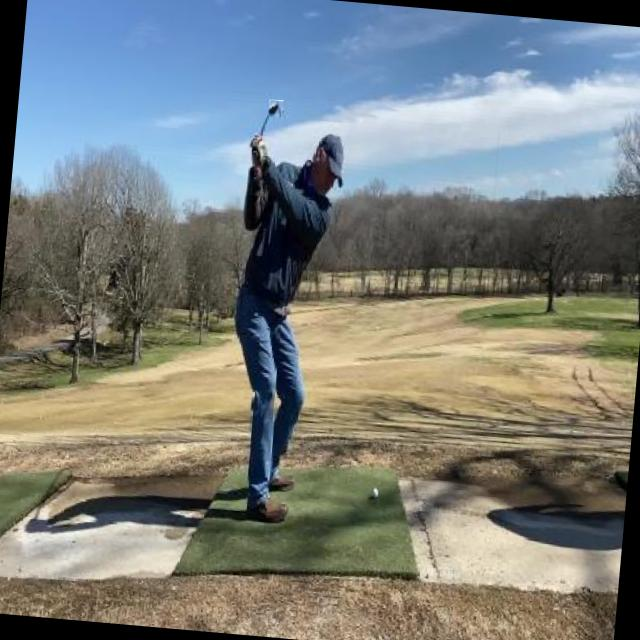club head: (268, 99, 284, 117)
